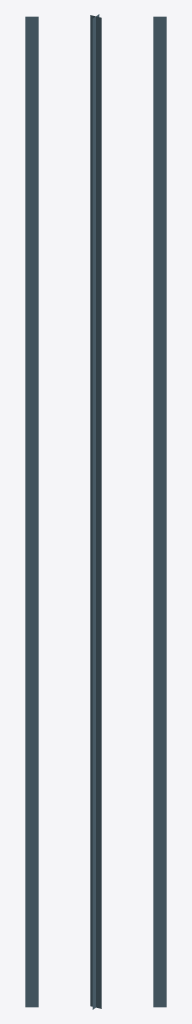
File: shi-daze-rain-vfx-v1-streak-lod0.fbx
3 renders of one model, left to right at view 1: azimuth 90°, elevation 25°; view 2: azimuth 150°, elevation 25°; view 3: azimuth 270°, elevation 25°, orthographic.
Visible parts, largest first — view 1: SM_SHI_RainStreak_01_LOD0; view 2: SM_SHI_RainStreak_01_LOD0; view 3: SM_SHI_RainStreak_01_LOD0.
Part boxes in pixels (<box>): SM_SHI_RainStreak_01_LOD0: <box>25,16,38,1007</box>; SM_SHI_RainStreak_01_LOD0: <box>90,14,101,1009</box>; SM_SHI_RainStreak_01_LOD0: <box>153,16,166,1007</box>.
Size of the model in its own units: 1.2 by 100 by 1.2.
